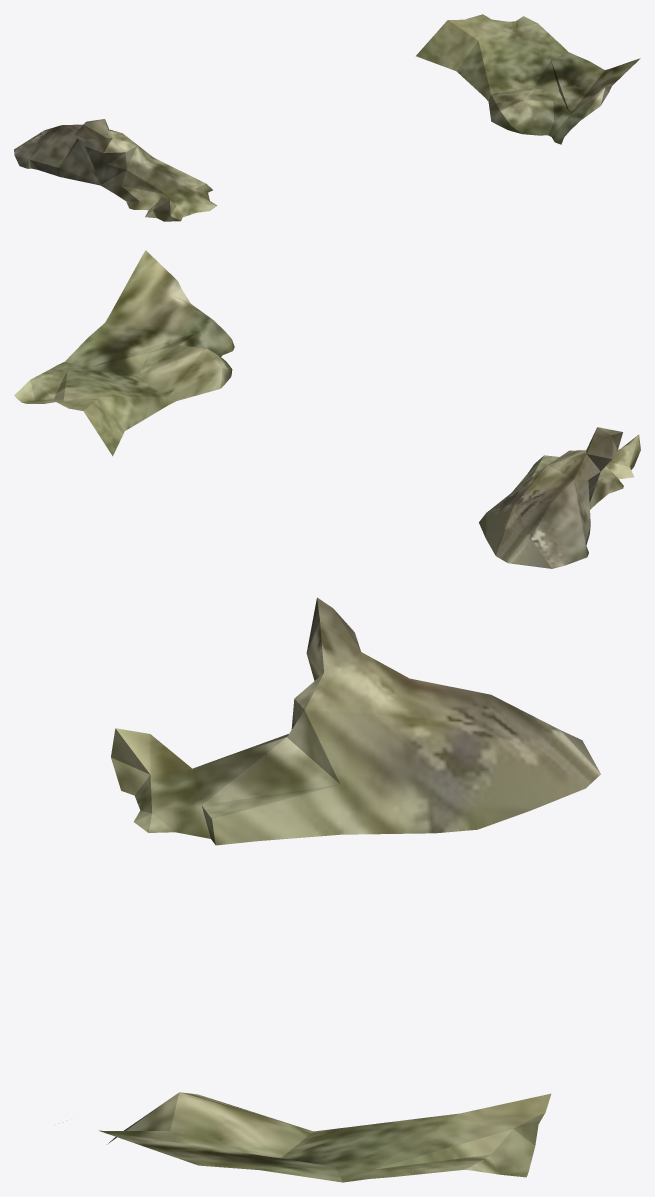
The picture shows the model from 3 angles, top to bottom: view 1: azimuth 30°, elevation 25°; view 2: azimuth 150°, elevation 25°; view 3: azimuth 270°, elevation 25°; orthographic projection. The views are drawn at different scales.
Bounding box in the file's own units: 5.33 × 0.7303 × 2.48.
1 material, 1 textured.
